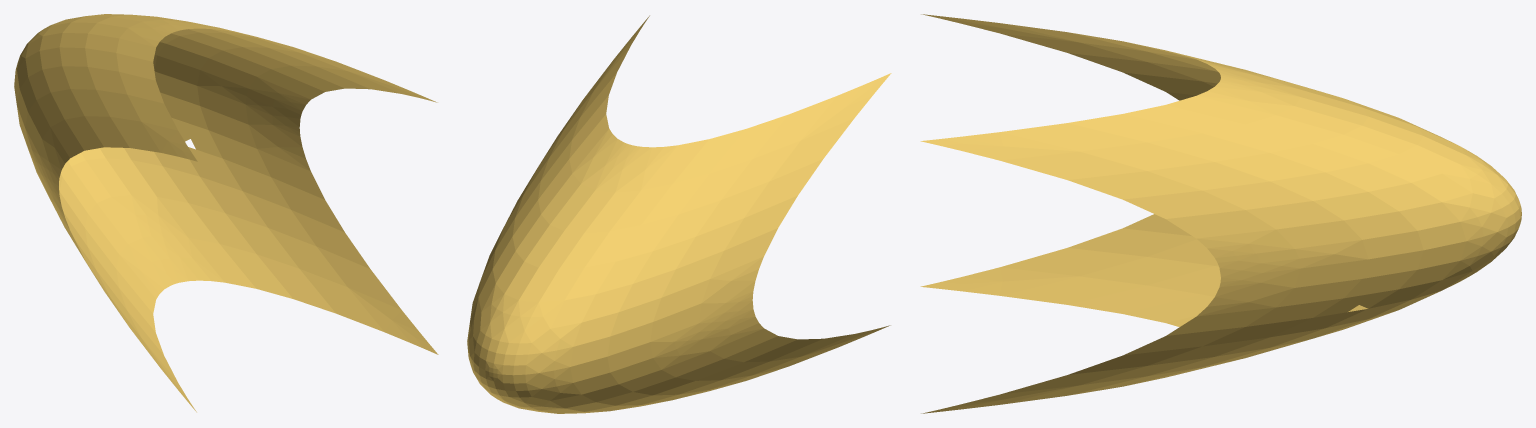
Rendered from paraboloid.glb.
The picture shows the model from 3 angles, left to right: view 1: azimuth 30°, elevation 25°; view 2: azimuth 150°, elevation 25°; view 3: azimuth 270°, elevation 25°; orthographic projection. The views are drawn at different scales.
Parts seen in each view (by area): view 1: object0.004; view 2: object0.004; view 3: object0.004.
Boxes of the visible parts, x1,y1,x2,y2 form: object0.004: [14, 14, 438, 412]; object0.004: [467, 15, 891, 413]; object0.004: [920, 14, 1521, 413].
Bounding box in the file's own units: 4 × 4 × 8.
